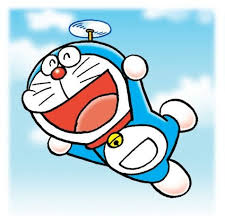doraemon: (21, 39, 199, 200)
